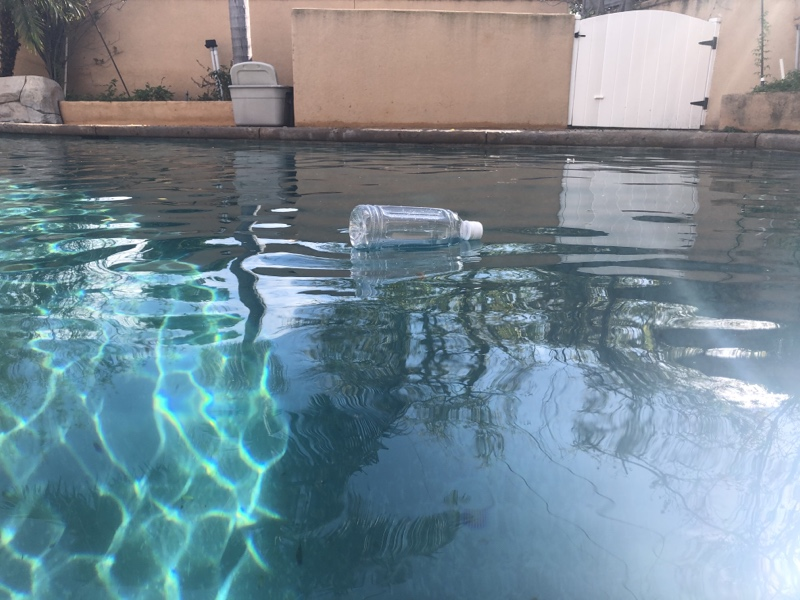Plastic Bottle: (346, 199, 485, 253)
